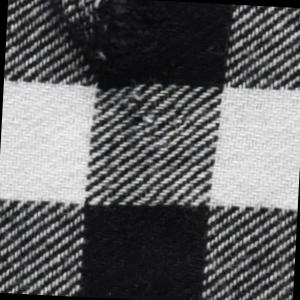Damage: (40, 1, 170, 88), (117, 94, 182, 141)
